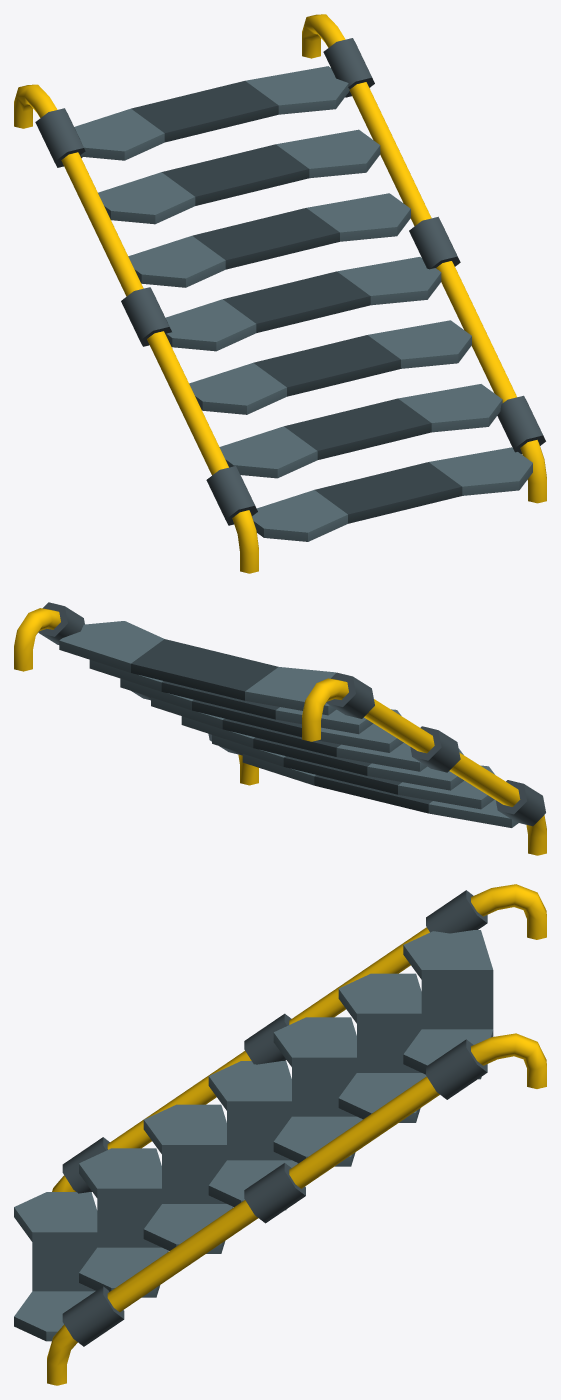
The model's file is Stair_type_C_003.fbx.
The picture shows the model from 3 angles, top to bottom: view 1: azimuth 30°, elevation 25°; view 2: azimuth 150°, elevation 25°; view 3: azimuth 270°, elevation 25°; orthographic projection. The views are drawn at different scales.
Parts seen in each view (by area): view 1: Stair_type_C_003; view 2: Stair_type_C_003; view 3: Stair_type_C_003.
Boxes of the visible parts, <box> form: Stair_type_C_003: <box>14,14,546,573</box>; Stair_type_C_003: <box>14,602,546,855</box>; Stair_type_C_003: <box>14,884,546,1385</box>.
Bounding box in the file's own units: 180 × 244 × 175.
